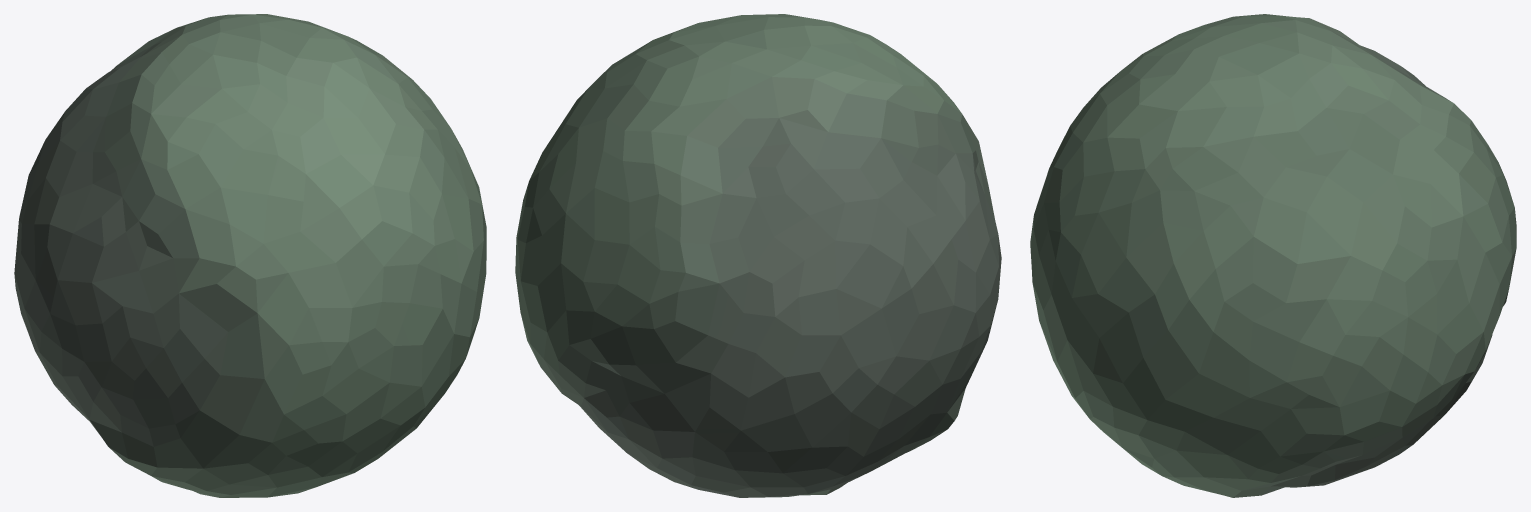
The model's file is zeometry-organic-forms-lumpy-sphere_v5.glb.
3 renders of one model, left to right at view 1: azimuth 30°, elevation 25°; view 2: azimuth 150°, elevation 25°; view 3: azimuth 270°, elevation 25°, orthographic. The views are drawn at different scales.
Parts seen in each view (by area): view 1: Lumpy Sphere_v5; view 2: Lumpy Sphere_v5; view 3: Lumpy Sphere_v5.
Part boxes in pixels (x1,y1,x2,y2): Lumpy Sphere_v5: (14, 14, 486, 497); Lumpy Sphere_v5: (515, 14, 1001, 497); Lumpy Sphere_v5: (1030, 14, 1516, 497).
Size of the model in its own units: 0.4894 by 0.5 by 0.4989.
